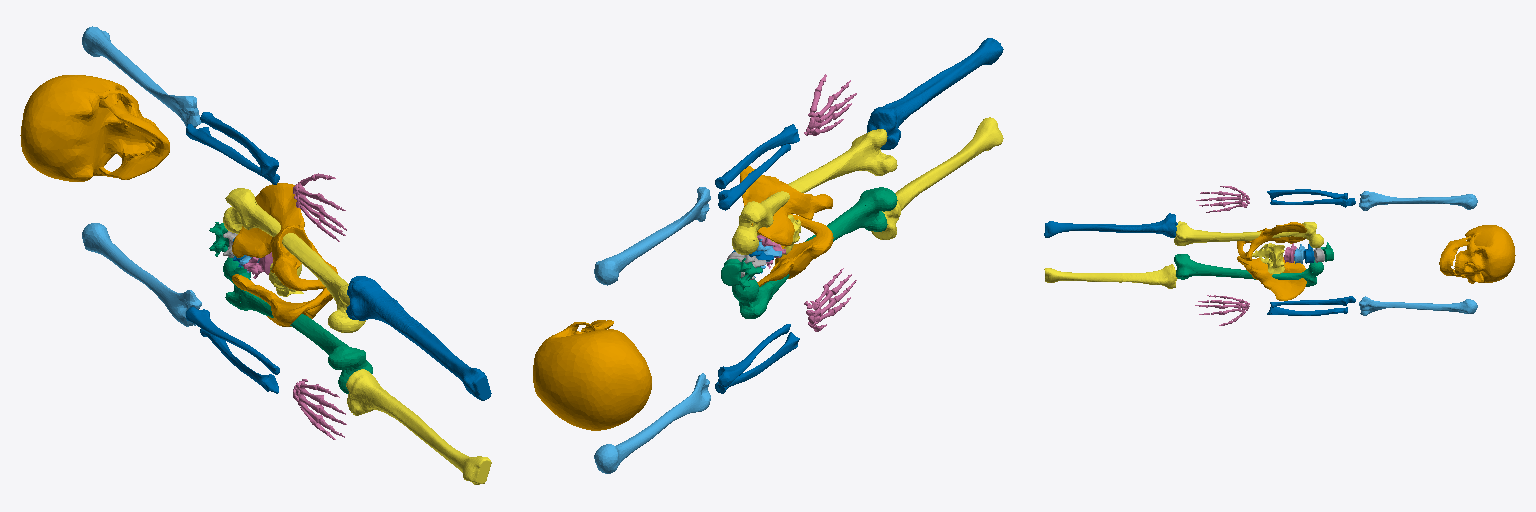
--- Facts derived from the render (not from the file) ---
3 views of the same robot in one strip: view 1: azimuth 30°, elevation 25°; view 2: azimuth 150°, elevation 25°; view 3: azimuth 270°, elevation 25° (orthographic).
Robot: Human_model — 55 links, 54 joints (52 revolute, 2 fixed); root link Pelvis; default pose: all joints at 0.
Links seen in each view (by area): view 1: Skull, Pelvis, RShank, RThigh, LShank, LThigh, LHumerus, RHumerus, RForearm, LForearm, LHand, RHand; view 2: Skull, Pelvis, RThigh, RShank, LThigh, LShank, LHumerus, RHumerus, RForearm, LForearm, RHand, LHand (+1 smaller); view 3: Skull, Pelvis, LThigh, LShank, RThigh, RShank, RHumerus, LHumerus, LForearm, RForearm, Sacrum, RHand (+1 smaller).
Link boxes in pixels (x1,y1,x2,y2): Skull: [20, 75, 169, 181]; Pelvis: [232, 183, 337, 326]; RShank: [346, 276, 491, 400]; RThigh: [223, 188, 365, 332]; LShank: [346, 369, 491, 484]; LThigh: [223, 256, 372, 393]; LHumerus: [82, 223, 201, 326]; RHumerus: [82, 26, 201, 127]; RForearm: [186, 112, 279, 184]; LForearm: [186, 307, 279, 393]; LHand: [293, 379, 346, 439]; RHand: [293, 173, 346, 241]; Skull: [533, 320, 651, 430]; Pelvis: [740, 166, 833, 286]; RThigh: [732, 129, 897, 254]; RShank: [867, 38, 1003, 149]; LThigh: [732, 187, 897, 318]; LShank: [871, 117, 1003, 239]; LHumerus: [594, 373, 710, 473]; RHumerus: [594, 187, 710, 285]; RForearm: [715, 124, 799, 210]; LForearm: [715, 324, 799, 393]; RHand: [804, 74, 856, 135]; LHand: [804, 268, 856, 331]; Skull: [1439, 225, 1515, 283]; Pelvis: [1237, 222, 1306, 300]; LThigh: [1174, 254, 1323, 286]; LShank: [1044, 264, 1177, 288]; RThigh: [1174, 221, 1323, 247]; RShank: [1044, 213, 1177, 237]; RHumerus: [1359, 191, 1477, 210]; LHumerus: [1359, 296, 1477, 315]; LForearm: [1267, 296, 1355, 315]; RForearm: [1267, 189, 1355, 207]; Sacrum: [1252, 243, 1284, 273]; RHand: [1196, 186, 1249, 212].
Size in the robot's own frame: 0.2164 by 1.47 by 0.4832 metres.
Meshes: 21 distinct files referenced, 18 mesh visuals loaded (18 ASCII STL); not drawn: 3 (reference not matched to a file when rendering).

The robot description file, URDF, robot "Human_model":
<?xml version="1.0" encoding="utf-8"?>
<robot name="Human_model">
   <link name="Pelvis">
      <inertial>
         <origin rpy="0 0 0" xyz="0 0 0"/>
         <mass value="8.4552"/>
         <inertia ixx="0" ixy="0" ixz="0" iyy="0" iyz="0" izz="0"/>
      </inertial>
      <visual>
         <origin>
            <xyz xyz="0 0 0"/>
            <rpy rpy="0 0 0"/>
         </origin>
         <geometry>
            <mesh filename="package://room_description/meshes/Pelvis.stl"/>
         </geometry>
      </visual>
   </link>
   <link name="PelvisSacrum_J1">
      <inertial>
         <origin rpy="0 0 0" xyz="0 0 0"/>
         <mass value="0"/>
         <inertia ixx="0" ixy="0" ixz="0" iyy="0" iyz="0" izz="0"/>
      </inertial>
   </link>
   <link name="PelvisSacrum_J2">
      <inertial>
         <origin rpy="0 0 0" xyz="0 0 0"/>
         <mass value="0"/>
         <inertia ixx="0" ixy="0" ixz="0" iyy="0" iyz="0" izz="0"/>
      </inertial>
   </link>
   <link name="Sacrum">
      <inertial>
         <origin rpy="0 0 0" xyz="-0.0255 0.028333 0"/>
         <mass value="0"/>
         <inertia ixx="0" ixy="0" ixz="0" iyy="0" iyz="0" izz="0"/>
      </inertial>
      <visual>
         <origin>
            <xyz xyz="-0.0255 0.028333 0"/>
            <rpy rpy="0 0 0"/>
         </origin>
         <geometry>
            <mesh filename="package://room_description/meshes/Sacrum.stl"/>
         </geometry>
      </visual>
   </link>
   <link name="SacrumL5_J1">
      <inertial>
         <origin rpy="0 0 0" xyz="0 0 0"/>
         <mass value="0"/>
         <inertia ixx="0" ixy="0" ixz="0" iyy="0" iyz="0" izz="0"/>
      </inertial>
   </link>
   <link name="SacrumL5_J2">
      <inertial>
         <origin rpy="0 0 0" xyz="0 0 0"/>
         <mass value="0"/>
         <inertia ixx="0" ixy="0" ixz="0" iyy="0" iyz="0" izz="0"/>
      </inertial>
   </link>
   <link name="L5">
      <inertial>
         <origin rpy="0 0 0" xyz="0.0075556 0.013222 0"/>
         <mass value="0"/>
         <inertia ixx="0" ixy="0" ixz="0" iyy="0" iyz="0" izz="0"/>
      </inertial>
      <visual>
         <origin>
            <xyz xyz="0.0075556 0.013222 0"/>
            <rpy rpy="0 0 0"/>
         </origin>
         <geometry>
            <mesh filename="package://room_description/meshes/L5.stl"/>
         </geometry>
      </visual>
   </link>
   <link name="L5L4_J1">
      <inertial>
         <origin rpy="0 0 0" xyz="0 0 0"/>
         <mass value="0"/>
         <inertia ixx="0" ixy="0" ixz="0" iyy="0" iyz="0" izz="0"/>
      </inertial>
   </link>
   <link name="L5L4_J2">
      <inertial>
         <origin rpy="0 0 0" xyz="0 0 0"/>
         <mass value="0"/>
         <inertia ixx="0" ixy="0" ixz="0" iyy="0" iyz="0" izz="0"/>
      </inertial>
   </link>
   <link name="L4">
      <inertial>
         <origin rpy="0 0 0" xyz="0.0056667 0.016056 0"/>
         <mass value="0"/>
         <inertia ixx="0" ixy="0" ixz="0" iyy="0" iyz="0" izz="0"/>
      </inertial>
      <visual>
         <origin>
            <xyz xyz="0.0056667 0.016056 0"/>
            <rpy rpy="0 0 0"/>
         </origin>
         <geometry>
            <mesh filename="package://room_description/meshes/L4.stl"/>
         </geometry>
      </visual>
   </link>
   <link name="L4L3_J1">
      <inertial>
         <origin rpy="0 0 0" xyz="0 0 0"/>
         <mass value="0"/>
         <inertia ixx="0" ixy="0" ixz="0" iyy="0" iyz="0" izz="0"/>
      </inertial>
   </link>
   <link name="L4L3_J2">
      <inertial>
         <origin rpy="0 0 0" xyz="0 0 0"/>
         <mass value="0"/>
         <inertia ixx="0" ixy="0" ixz="0" iyy="0" iyz="0" izz="0"/>
      </inertial>
   </link>
   <link name="L3">
      <inertial>
         <origin rpy="0 0 0" xyz="0.00094444 0.017 0"/>
         <mass value="0"/>
         <inertia ixx="0" ixy="0" ixz="0" iyy="0" iyz="0" izz="0"/>
      </inertial>
      <visual>
         <origin>
            <xyz xyz="0.00094444 0.017 0"/>
            <rpy rpy="0 0 0"/>
         </origin>
         <geometry>
            <mesh filename="package://room_description/meshes/L3.stl"/>
         </geometry>
      </visual>
   </link>
   <link name="L3L2_J1">
      <inertial>
         <origin rpy="0 0 0" xyz="0 0 0"/>
         <mass value="0"/>
         <inertia ixx="0" ixy="0" ixz="0" iyy="0" iyz="0" izz="0"/>
      </inertial>
   </link>
   <link name="L3L2_J2">
      <inertial>
         <origin rpy="0 0 0" xyz="0 0 0"/>
         <mass value="0"/>
         <inertia ixx="0" ixy="0" ixz="0" iyy="0" iyz="0" izz="0"/>
      </inertial>
   </link>
   <link name="L2">
      <inertial>
         <origin rpy="0 0 0" xyz="-0.00094444 0.015111 0"/>
         <mass value="0"/>
         <inertia ixx="0" ixy="0" ixz="0" iyy="0" iyz="0" izz="0"/>
      </inertial>
      <visual>
         <origin>
            <xyz xyz="-0.00094444 0.015111 0"/>
            <rpy rpy="0 0 0"/>
         </origin>
         <geometry>
            <mesh filename="package://room_description/meshes/L2.stl"/>
         </geometry>
      </visual>
   </link>
   <link name="L2L1_J1">
      <inertial>
         <origin rpy="0 0 0" xyz="0 0 0"/>
         <mass value="0"/>
         <inertia ixx="0" ixy="0" ixz="0" iyy="0" iyz="0" izz="0"/>
      </inertial>
   </link>
   <link name="L2L1_J2">
      <inertial>
         <origin rpy="0 0 0" xyz="0 0 0"/>
         <mass value="0"/>
         <inertia ixx="0" ixy="0" ixz="0" iyy="0" iyz="0" izz="0"/>
      </inertial>
   </link>
   <link name="L1">
      <inertial>
         <origin rpy="0 0 0" xyz="-0.0028333 0.015111 0"/>
         <mass value="0"/>
         <inertia ixx="0" ixy="0" ixz="0" iyy="0" iyz="0" izz="0"/>
      </inertial>
      <visual>
         <origin>
            <xyz xyz="-0.0028333 0.015111 0"/>
            <rpy rpy="0 0 0"/>
         </origin>
         <geometry>
            <mesh filename="package://room_description/meshes/L1.stl"/>
         </geometry>
      </visual>
   </link>
   <link name="L1Thorax_J1">
      <inertial>
         <origin rpy="0 0 0" xyz="0 0 0"/>
         <mass value="0"/>
         <inertia ixx="0" ixy="0" ixz="0" iyy="0" iyz="0" izz="0"/>
      </inertial>
   </link>
   <link name="L1Thorax_J2">
      <inertial>
         <origin rpy="0 0 0" xyz="0 0 0"/>
         <mass value="0"/>
         <inertia ixx="0" ixy="0" ixz="0" iyy="0" iyz="0" izz="0"/>
      </inertial>
   </link>
   <link name="Thorax">
      <inertial>
         <origin rpy="0 0 0" xyz="0.035889 0.14072 0"/>
         <mass value="19.8372"/>
         <inertia ixx="-0.16485" ixy="0.25777" ixz="0.0015499" iyy="0.20309" iyz="-0.0061998" izz="-0.18263"/>
      </inertial>
      <visual>
         <origin>
            <xyz xyz="0.035889 0.14072 0"/>
            <rpy rpy="0 0 0"/>
         </origin>
         <geometry>
            <mesh filename="package://room_description/meshes/Thorax.stl"/>
         </geometry>
      </visual>
   </link>
   <link name="ThoraxSkull_J1">
      <inertial>
         <origin rpy="0 0 0" xyz="0 0 0"/>
         <mass value="0"/>
         <inertia ixx="0" ixy="0" ixz="0" iyy="0" iyz="0" izz="0"/>
      </inertial>
   </link>
   <link name="ThoraxSkull_J2">
      <inertial>
         <origin rpy="0 0 0" xyz="0 0 0"/>
         <mass value="0"/>
         <inertia ixx="0" ixy="0" ixz="0" iyy="0" iyz="0" izz="0"/>
      </inertial>
   </link>
   <link name="Skull">
      <inertial>
         <origin rpy="0 0 0" xyz="0 0 0"/>
         <mass value="4.2276"/>
         <inertia ixx="0.0071027" ixy="-0.00059867" ixz="-2.9564e-05" iyy="0.0046194" iyz="6.6519e-05" izz="0.0080488"/>
      </inertial>
      <visual>
         <origin>
            <xyz xyz="0 0 0"/>
            <rpy rpy="0 0 0"/>
         </origin>
         <geometry>
            <mesh filename="package://room_description/meshes/Skull.stl"/>
         </geometry>
      </visual>
   </link>
   <link name="RHip_J1">
      <inertial>
         <origin rpy="0 0 0" xyz="0 0 0"/>
         <mass value="0"/>
         <inertia ixx="0" ixy="0" ixz="0" iyy="0" iyz="0" izz="0"/>
      </inertial>
   </link>
   <link name="RHip_J2">
      <inertial>
         <origin rpy="0 0 0" xyz="0 0 0"/>
         <mass value="0"/>
         <inertia ixx="0" ixy="0" ixz="0" iyy="0" iyz="0" izz="0"/>
      </inertial>
   </link>
   <link name="RThigh">
      <inertial>
         <origin rpy="0 0 0" xyz="0 -0.18606 0.035889"/>
         <mass value="7.3797"/>
         <inertia ixx="0.11501" ixy="0.0067008" ixz="-0.000547" iyy="0.030769" iyz="-0.0067008" izz="0.12308"/>
      </inertial>
      <visual>
         <origin>
            <xyz xyz="0 -0.18606 0.035889"/>
            <rpy rpy="0 0 0"/>
         </origin>
         <geometry>
            <mesh filename="package://room_description/meshes/RThigh.stl"/>
         </geometry>
      </visual>
   </link>
   <link name="RShank">
      <inertial>
         <origin rpy="0 0 0" xyz="0 -0.18813 0"/>
         <mass value="2.8801"/>
         <inertia ixx="0.042617" ixy="-0.00086974" ixz="-0.00021743" iyy="0.0054359" iyz="0.001359" izz="0.042617"/>
      </inertial>
      <visual>
         <origin>
            <xyz xyz="0 -0.18813 0"/>
            <rpy rpy="0 0 0"/>
         </origin>
         <geometry>
            <mesh filename="package://room_description/meshes/RShank.stl"/>
         </geometry>
      </visual>
   </link>
   <link name="RAnkle_J1">
      <inertial>
         <origin rpy="0 0 0" xyz="0 0 0"/>
         <mass value="0"/>
         <inertia ixx="0" ixy="0" ixz="0" iyy="0" iyz="0" izz="0"/>
      </inertial>
   </link>
   <link name="RFootInter">
      <inertial>
         <origin rpy="0 0 0" xyz="0 0 0"/>
         <mass value="0"/>
         <inertia ixx="0" ixy="0" ixz="0" iyy="0" iyz="0" izz="0"/>
      </inertial>
   </link>
   <link name="RFoot">
      <inertial>
         <origin rpy="0 0 0" xyz="-0.025972 -0.065875 0.018889"/>
         <mass value="0.72029"/>
         <inertia ixx="0.0035454" ixy="0.00043767" ixz="0" iyy="0.00074844" iyz="-0.00016575" izz="0.0033563"/>
      </inertial>
      <visual>
         <origin>
            <xyz xyz="-0.025972 -0.065875 0.018889"/>
            <rpy rpy="0 0 0"/>
         </origin>
         <geometry>
            <mesh filename="package://room_description/meshes/RFoot.stl"/>
         </geometry>
      </visual>
   </link>
   <link name="LHip_J1">
      <inertial>
         <origin rpy="0 0 0" xyz="0 0 0"/>
         <mass value="0"/>
         <inertia ixx="0" ixy="0" ixz="0" iyy="0" iyz="0" izz="0"/>
      </inertial>
   </link>
   <link name="LHip_J2">
      <inertial>
         <origin rpy="0 0 0" xyz="0 0 0"/>
         <mass value="0"/>
         <inertia ixx="0" ixy="0" ixz="0" iyy="0" iyz="0" izz="0"/>
      </inertial>
   </link>
   <link name="LThigh">
      <inertial>
         <origin rpy="0 0 0" xyz="0 -0.18606 -0.035889"/>
         <mass value="7.3797"/>
         <inertia ixx="0.11501" ixy="0.0067008" ixz="-0.000547" iyy="0.030769" iyz="-0.0067008" izz="0.12308"/>
      </inertial>
      <visual>
         <origin>
            <xyz xyz="0 -0.18606 -0.035889"/>
            <rpy rpy="0 0 0"/>
         </origin>
         <geometry>
            <mesh filename="package://room_description/meshes/LThigh.stl"/>
         </geometry>
      </visual>
   </link>
   <link name="LShank">
      <inertial>
         <origin rpy="0 0 0" xyz="0 -0.18813 0"/>
         <mass value="2.8801"/>
         <inertia ixx="0.042617" ixy="-0.00086974" ixz="-0.00021743" iyy="0.0054359" iyz="0.001359" izz="0.042617"/>
      </inertial>
      <visual>
         <origin>
            <xyz xyz="0 -0.18813 0"/>
            <rpy rpy="0 0 0"/>
         </origin>
         <geometry>
            <mesh filename="package://room_description/meshes/LShank.stl"/>
         </geometry>
      </visual>
   </link>
   <link name="LAnkle_J1">
      <inertial>
         <origin rpy="0 0 0" xyz="0 0 0"/>
         <mass value="0"/>
         <inertia ixx="0" ixy="0" ixz="0" iyy="0" iyz="0" izz="0"/>
      </inertial>
   </link>
   <link name="LFootInter">
      <inertial>
         <origin rpy="0 0 0" xyz="0 0 0"/>
         <mass value="0"/>
         <inertia ixx="0" ixy="0" ixz="0" iyy="0" iyz="0" izz="0"/>
      </inertial>
   </link>
   <link name="LFoot">
      <inertial>
         <origin rpy="0 0 0" xyz="-0.025972 -0.065875 -0.018889"/>
         <mass value="0.72029"/>
         <inertia ixx="0.0035454" ixy="0.00043767" ixz="0" iyy="0.00074844" iyz="-0.00016575" izz="0.0033563"/>
      </inertial>
      <visual>
         <origin>
            <xyz xyz="-0.025972 -0.065875 -0.018889"/>
            <rpy rpy="0 0 0"/>
         </origin>
         <geometry>
            <mesh filename="package://room_description/meshes/LFoot.stl"/>
         </geometry>
      </visual>
   </link>
   <link name="RShoulder_J1">
      <inertial>
         <origin rpy="0 0 0" xyz="0 0 0"/>
         <mass value="0"/>
         <inertia ixx="0" ixy="0" ixz="0" iyy="0" iyz="0" izz="0"/>
      </inertial>
   </link>
   <link name="RShoulder_J2">
      <inertial>
         <origin rpy="0 0 0" xyz="0 0 0"/>
         <mass value="0"/>
         <inertia ixx="0" ixy="0" ixz="0" iyy="0" iyz="0" izz="0"/>
      </inertial>
   </link>
   <link name="RHumerus">
      <inertial>
         <origin rpy="0 0 0" xyz="0 -0.1581 0"/>
         <mass value="1.4399"/>
         <inertia ixx="-0.022156" ixy="0.00051827" ixz="0.00035991" iyy="0.0028217" iyz="5.7586e-05" izz="-0.021249"/>
      </inertial>
      <visual>
         <origin>
            <xyz xyz="0 -0.1581 0"/>
            <rpy rpy="0 0 0"/>
         </origin>
         <geometry>
            <mesh filename="package://room_description/meshes/RHumerus.stl"/>
         </geometry>
      </visual>
   </link>
   <link name="RElbow_J1">
      <inertial>
         <origin rpy="0 0 0" xyz="0 0 0"/>
         <mass value="0"/>
         <inertia ixx="0" ixy="0" ixz="0" iyy="0" iyz="0" izz="0"/>
      </inertial>
   </link>
   <link name="RForearm_Virtual">
      <inertial>
         <origin rpy="0 0 0" xyz="0 -0.11352 0"/>
         <mass value="0"/>
         <inertia ixx="0" ixy="0" ixz="0" iyy="0" iyz="0" izz="0"/>
      </inertial>
   </link>
   <link name="RForearm">
      <inertial>
         <origin rpy="0 0 0" xyz="0 -0.11352 0"/>
         <mass value="1.02"/>
         <inertia ixx="-0.0082187" ixy="5.6551e-05" ixz="2.5134e-05" iyy="0.0007603" iyz="-0.00040214" izz="-0.0085643"/>
      </inertial>
      <visual>
         <origin>
            <xyz xyz="0 -0.11352 0"/>
            <rpy rpy="0 0 0"/>
         </origin>
         <geometry>
            <mesh filename="package://room_description/meshes/RForearm.stl"/>
         </geometry>
      </visual>
   </link>
   <link name="RWrist_J1">
      <inertial>
         <origin rpy="0 0 0" xyz="0 0 0"/>
         <mass value="0"/>
         <inertia ixx="0" ixy="0" ixz="0" iyy="0" iyz="0" izz="0"/>
      </inertial>
   </link>
   <link name="RHand">
      <inertial>
         <origin rpy="0 0 0" xyz="0 -0.049867 0"/>
         <mass value="0.36011"/>
         <inertia ixx="0.0036215" ixy="0.00058753" ixz="0.00027313" iyy="0.0017529" iyz="-0.00048556" izz="0.0029113"/>
      </inertial>
      <visual>
         <origin>
            <xyz xyz="0 -0.049867 0"/>
            <rpy rpy="0 0 0"/>
         </origin>
         <geometry>
            <mesh filename="package://room_description/meshes/RHand.stl"/>
         </geometry>
      </visual>
   </link>
   <link name="LShoulder_J1">
      <inertial>
         <origin rpy="0 0 0" xyz="0 0 0"/>
         <mass value="0"/>
         <inertia ixx="0" ixy="0" ixz="0" iyy="0" iyz="0" izz="0"/>
      </inertial>
   </link>
   <link name="LShoulder_J2">
      <inertial>
         <origin rpy="0 0 0" xyz="0 0 0"/>
         <mass value="0"/>
         <inertia ixx="0" ixy="0" ixz="0" iyy="0" iyz="0" izz="0"/>
      </inertial>
   </link>
   <link name="LHumerus">
      <inertial>
         <origin rpy="0 0 0" xyz="0 -0.1581 0"/>
         <mass value="1.4399"/>
         <inertia ixx="-0.022156" ixy="0.00051827" ixz="0.00035991" iyy="0.0028217" iyz="5.7586e-05" izz="-0.021249"/>
      </inertial>
      <visual>
         <origin>
            <xyz xyz="0 -0.1581 0"/>
            <rpy rpy="0 0 0"/>
         </origin>
         <geometry>
            <mesh filename="package://room_description/meshes/LHumerus.stl"/>
         </geometry>
      </visual>
   </link>
   <link name="LElbow_J1">
      <inertial>
         <origin rpy="0 0 0" xyz="0 0 0"/>
         <mass value="0"/>
         <inertia ixx="0" ixy="0" ixz="0" iyy="0" iyz="0" izz="0"/>
      </inertial>
   </link>
   <link name="LForearm_Virtual">
      <inertial>
         <origin rpy="0 0 0" xyz="0 -0.11352 0"/>
         <mass value="0"/>
         <inertia ixx="0" ixy="0" ixz="0" iyy="0" iyz="0" izz="0"/>
      </inertial>
   </link>
   <link name="LForearm">
      <inertial>
         <origin rpy="0 0 0" xyz="0 -0.11352 0"/>
         <mass value="1.02"/>
         <inertia ixx="-0.0082187" ixy="5.6551e-05" ixz="2.5134e-05" iyy="0.0007603" iyz="-0.00040214" izz="-0.0085643"/>
      </inertial>
      <visual>
         <origin>
            <xyz xyz="0 -0.11352 0"/>
            <rpy rpy="0 0 0"/>
         </origin>
         <geometry>
            <mesh filename="package://room_description/meshes/LForearm.stl"/>
         </geometry>
      </visual>
   </link>
   <link name="LWrist_J1">
      <inertial>
         <origin rpy="0 0 0" xyz="0 0 0"/>
         <mass value="0"/>
         <inertia ixx="0" ixy="0" ixz="0" iyy="0" iyz="0" izz="0"/>
      </inertial>
   </link>
   <link name="LHand">
      <inertial>
         <origin rpy="0 0 0" xyz="0 -0.049867 0"/>
         <mass value="0.36011"/>
         <inertia ixx="0.0036215" ixy="0.00058753" ixz="0.00027313" iyy="0.0017529" iyz="-0.00048556" izz="0.0029113"/>
      </inertial>
      <visual>
         <origin>
            <xyz xyz="0 -0.049867 0"/>
            <rpy rpy="0 0 0"/>
         </origin>
         <geometry>
            <mesh filename="package://room_description/meshes/LHand.stl"/>
         </geometry>
      </visual>
   </link>
   <joint name="PelvisSacrum_J1j" type="revolute">
      <limit effort="10" lower="-10" upper="10" velocity="10"/>
      <parent link="Pelvis"/>
      <child link="PelvisSacrum_J1"/>
      <origin rpy="0 0 0" xyz="-0.010389 0.018889 0"/>
      <axis xyz="1 0 0"/>
   </joint>
   <joint name="PelvisSacrum_J2j" type="revolute">
      <limit effort="10" lower="-10" upper="10" velocity="10"/>
      <parent link="PelvisSacrum_J1"/>
      <child link="PelvisSacrum_J2"/>
      <origin rpy="0 0 0" xyz="0 0 0"/>
      <axis xyz="0 1 0"/>
   </joint>
   <joint name="Sacrumj" type="revolute">
      <limit effort="10" lower="-10" upper="10" velocity="10"/>
      <parent link="PelvisSacrum_J2"/>
      <child link="Sacrum"/>
      <origin rpy="0 0 0" xyz="0 0 0"/>
      <axis xyz="0 0 1"/>
   </joint>
   <joint name="SacrumL5_J1j" type="revolute">
      <limit effort="10" lower="-10" upper="10" velocity="10"/>
      <parent link="Sacrum"/>
      <child link="SacrumL5_J1"/>
      <origin rpy="0 0 0" xyz="0.015111 0.023611 0"/>
      <axis xyz="1 0 0"/>
   </joint>
   <joint name="SacrumL5_J2j" type="revolute">
      <limit effort="10" lower="-10" upper="10" velocity="10"/>
      <parent link="SacrumL5_J1"/>
      <child link="SacrumL5_J2"/>
      <origin rpy="0 0 0" xyz="0 0 0"/>
      <axis xyz="0 1 0"/>
   </joint>
   <joint name="L5j" type="revolute">
      <limit effort="10" lower="-10" upper="10" velocity="10"/>
      <parent link="SacrumL5_J2"/>
      <child link="L5"/>
      <origin rpy="0 0 0" xyz="0 0 0"/>
      <axis xyz="0 0 1"/>
   </joint>
   <joint name="L5L4_J1j" type="revolute">
      <limit effort="10" lower="-10" upper="10" velocity="10"/>
      <parent link="L5"/>
      <child link="L5L4_J1"/>
      <origin rpy="0 0 0" xyz="0.0066111 0.030222 0"/>
      <axis xyz="1 0 0"/>
   </joint>
   <joint name="L5L4_J2j" type="revolute">
      <limit effort="10" lower="-10" upper="10" velocity="10"/>
      <parent link="L5L4_J1"/>
      <child link="L5L4_J2"/>
      <origin rpy="0 0 0" xyz="0 0 0"/>
      <axis xyz="0 1 0"/>
   </joint>
   <joint name="L4j" type="revolute">
      <limit effort="10" lower="-10" upper="10" velocity="10"/>
      <parent link="L5L4_J2"/>
      <child link="L4"/>
      <origin rpy="0 0 0" xyz="0 0 0"/>
      <axis xyz="0 0 1"/>
   </joint>
   <joint name="L4L3_J1j" type="revolute">
      <limit effort="10" lower="-10" upper="10" velocity="10"/>
      <parent link="L4"/>
      <child link="L4L3_J1"/>
      <origin rpy="0 0 0" xyz="0 0.032111 0"/>
      <axis xyz="1 0 0"/>
   </joint>
   <joint name="L4L3_J2j" type="revolute">
      <limit effort="10" lower="-10" upper="10" velocity="10"/>
      <parent link="L4L3_J1"/>
      <child link="L4L3_J2"/>
      <origin rpy="0 0 0" xyz="0 0 0"/>
      <axis xyz="0 1 0"/>
   </joint>
   <joint name="L3j" type="revolute">
      <limit effort="10" lower="-10" upper="10" velocity="10"/>
      <parent link="L4L3_J2"/>
      <child link="L3"/>
      <origin rpy="0 0 0" xyz="0 0 0"/>
      <axis xyz="0 0 1"/>
   </joint>
   <joint name="L3L2_J1j" type="revolute">
      <limit effort="10" lower="-10" upper="10" velocity="10"/>
      <parent link="L3"/>
      <child link="L3L2_J1"/>
      <origin rpy="0 0 0" xyz="-0.0056667 0.031167 0"/>
      <axis xyz="1 0 0"/>
   </joint>
   <joint name="L3L2_J2j" type="revolute">
      <limit effort="10" lower="-10" upper="10" velocity="10"/>
      <parent link="L3L2_J1"/>
      <child link="L3L2_J2"/>
      <origin rpy="0 0 0" xyz="0 0 0"/>
      <axis xyz="0 1 0"/>
   </joint>
   <joint name="L2j" type="revolute">
      <limit effort="10" lower="-10" upper="10" velocity="10"/>
      <parent link="L3L2_J2"/>
      <child link="L2"/>
      <origin rpy="0 0 0" xyz="0 0 0"/>
      <axis xyz="0 0 1"/>
   </joint>
   <joint name="L2L1_J1j" type="revolute">
      <limit effort="10" lower="-10" upper="10" velocity="10"/>
      <parent link="L2"/>
      <child link="L2L1_J1"/>
      <origin rpy="0 0 0" xyz="-0.0094444 0.027389 0"/>
      <axis xyz="1 0 0"/>
   </joint>
   <joint name="L2L1_J2j" type="revolute">
      <limit effort="10" lower="-10" upper="10" velocity="10"/>
      <parent link="L2L1_J1"/>
      <child link="L2L1_J2"/>
      <origin rpy="0 0 0" xyz="0 0 0"/>
      <axis xyz="0 1 0"/>
   </joint>
   <joint name="L1j" type="revolute">
      <limit effort="10" lower="-10" upper="10" velocity="10"/>
      <parent link="L2L1_J2"/>
      <child link="L1"/>
      <origin rpy="0 0 0" xyz="0 0 0"/>
      <axis xyz="0 0 1"/>
   </joint>
   <joint name="L1Thorax_J1j" type="revolute">
      <limit effort="10" lower="-10" upper="10" velocity="10"/>
      <parent link="L1"/>
      <child link="L1Thorax_J1"/>
      <origin rpy="0 0 0" xyz="-0.011333 0.029278 0"/>
      <axis xyz="1 0 0"/>
   </joint>
   <joint name="L1Thorax_J2j" type="revolute">
      <limit effort="10" lower="-10" upper="10" velocity="10"/>
      <parent link="L1Thorax_J1"/>
      <child link="L1Thorax_J2"/>
      <origin rpy="0 0 0" xyz="0 0 0"/>
      <axis xyz="0 1 0"/>
   </joint>
   <joint name="Thoraxj" type="revolute">
      <limit effort="10" lower="-10" upper="10" velocity="10"/>
      <parent link="L1Thorax_J2"/>
      <child link="Thorax"/>
      <origin rpy="0 0 0" xyz="0 0 0"/>
      <axis xyz="0 0 1"/>
   </joint>
   <joint name="ThoraxSkull_J1j" type="revolute">
      <limit effort="10" lower="-10" upper="10" velocity="10"/>
      <parent link="Thorax"/>
      <child link="ThoraxSkull_J1"/>
      <origin rpy="0 0 0" xyz="0.0037778 0.42122 0"/>
      <axis xyz="1 0 0"/>
   </joint>
   <joint name="ThoraxSkull_J2j" type="revolute">
      <limit effort="10" lower="-10" upper="10" velocity="10"/>
      <parent link="ThoraxSkull_J1"/>
      <child link="ThoraxSkull_J2"/>
      <origin rpy="0 0 0" xyz="0 0 0"/>
      <axis xyz="0 1 0"/>
   </joint>
   <joint name="Skullj" type="revolute">
      <limit effort="10" lower="-10" upper="10" velocity="10"/>
      <parent link="ThoraxSkull_J2"/>
      <child link="Skull"/>
      <origin rpy="0 0 0" xyz="0 0 0"/>
      <axis xyz="0 0 1"/>
   </joint>
   <joint name="RHip_J1j" type="revolute">
      <limit effort="10" lower="-10" upper="10" velocity="10"/>
      <parent link="Pelvis"/>
      <child link="RHip_J1"/>
      <origin rpy="0 0 0" xyz="-0.0075556 -0.047222 0.075556"/>
      <axis xyz="1 0 0"/>
   </joint>
   <joint name="RHip_J2j" type="revolute">
      <limit effort="10" lower="-10" upper="10" velocity="10"/>
      <parent link="RHip_J1"/>
      <child link="RHip_J2"/>
      <origin rpy="0 0 0" xyz="0 0 0"/>
      <axis xyz="0 1 0"/>
   </joint>
   <joint name="RThighj" type="revolute">
      <limit effort="10" lower="-10" upper="10" velocity="10"/>
      <parent link="RHip_J2"/>
      <child link="RThigh"/>
      <origin rpy="0 0 0" xyz="0 0 0"/>
      <axis xyz="0 0 1"/>
   </joint>
   <joint name="RShankj" type="revolute">
      <limit effort="10" lower="-10" upper="10" velocity="10"/>
      <parent link="RThigh"/>
      <child link="RShank"/>
      <origin rpy="0 0 0" xyz="-0.023611 -0.42972 0.0094444"/>
      <axis xyz="0 0 1"/>
   </joint>
   <joint name="RAnkle_J1j" type="revolute">
      <limit effort="10" lower="-10" upper="10" velocity="10"/>
      <parent link="RShank"/>
      <child link="RAnkle_J1"/>
      <origin rpy="0 0 0" xyz="0 -0.43444 0"/>
      <axis xyz="0 0 1"/>
   </joint>
   <joint name="RFootj" type="revolute">
      <limit effort="10" lower="-10" upper="10" velocity="10"/>
      <parent link="RAnkle_J1"/>
      <child link="RFoot"/>
      <origin rpy="0 0 0" xyz="0 0 0"/>
      <axis xyz="1 0 0"/>
   </joint>
   <joint name="RFootInterj" type="fixed">
      <parent link="RFoot"/>
      <child link="RFootInter"/>
      <origin rpy="0 0 0" xyz="0 0 0"/>
      <axis rpy="0 0 1.5708"/>
   </joint>
   <joint name="LHip_J1j" type="revolute">
      <limit effort="10" lower="-10" upper="10" velocity="10"/>
      <parent link="Pelvis"/>
      <child link="LHip_J1"/>
      <origin rpy="0 0 0" xyz="-0.0075556 -0.047222 -0.075556"/>
      <axis xyz="1 0 0"/>
   </joint>
   <joint name="LHip_J2j" type="revolute">
      <limit effort="10" lower="-10" upper="10" velocity="10"/>
      <parent link="LHip_J1"/>
      <child link="LHip_J2"/>
      <origin rpy="0 0 0" xyz="0 0 0"/>
      <axis xyz="0 1 0"/>
   </joint>
   <joint name="LThighj" type="revolute">
      <limit effort="10" lower="-10" upper="10" velocity="10"/>
      <parent link="LHip_J2"/>
      <child link="LThigh"/>
      <origin rpy="0 0 0" xyz="0 0 0"/>
      <axis xyz="0 0 1"/>
   </joint>
   <joint name="LShankj" type="revolute">
      <limit effort="10" lower="-10" upper="10" velocity="10"/>
      <parent link="LThigh"/>
      <child link="LShank"/>
      <origin rpy="0 0 0" xyz="-0.023611 -0.42972 -0.0094444"/>
      <axis xyz="0 0 1"/>
   </joint>
   <joint name="LAnkle_J1j" type="revolute">
      <limit effort="10" lower="-10" upper="10" velocity="10"/>
      <parent link="LShank"/>
      <child link="LAnkle_J1"/>
      <origin rpy="0 0 0" xyz="0 -0.43444 0"/>
      <axis xyz="0 0 1"/>
   </joint>
   <joint name="LFootj" type="revolute">
      <limit effort="10" lower="-10" upper="10" velocity="10"/>
      <parent link="LAnkle_J1"/>
      <child link="LFoot"/>
      <origin rpy="0 0 0" xyz="0 0 0"/>
      <axis xyz="1 0 0"/>
   </joint>
   <joint name="LFootInterj" type="fixed">
      <parent link="LFoot"/>
      <child link="LFootInter"/>
      <origin rpy="0 0 0" xyz="0 0 0"/>
      <axis rpy="0 0 1.5708"/>
   </joint>
   <joint name="RShoulder_J1j" type="revolute">
      <limit effort="10" lower="-10" upper="10" velocity="10"/>
      <parent link="Thorax"/>
      <child link="RShoulder_J1"/>
      <origin rpy="0 0 0" xyz="-0.0026444 0.24452 0.18218"/>
      <axis xyz="1 0 0"/>
   </joint>
   <joint name="RShoulder_J2j" type="revolute">
      <limit effort="10" lower="-10" upper="10" velocity="10"/>
      <parent link="RShoulder_J1"/>
      <child link="RShoulder_J2"/>
      <origin rpy="0 0 0" xyz="0 0 0"/>
      <axis xyz="0 1 0"/>
   </joint>
   <joint name="RHumerusj" type="revolute">
      <limit effort="10" lower="-10" upper="10" velocity="10"/>
      <parent link="RShoulder_J2"/>
      <child link="RHumerus"/>
      <origin rpy="0 0 0" xyz="0 0 0"/>
      <axis xyz="0 0 1"/>
   </joint>
   <joint name="RElbow_J1j" type="revolute">
      <limit effort="10" lower="-10" upper="10" velocity="10"/>
      <parent link="RHumerus"/>
      <child link="RElbow_J1"/>
      <origin rpy="0 0 0" xyz="0 -0.3162 0"/>
      <axis xyz="0 0 1"/>
   </joint>
   <joint name="RForearm_Virtualj" type="revolute">
      <limit effort="10" lower="-10" upper="10" velocity="10"/>
      <parent link="RHumerus"/>
      <child link="RForearm_Virtual"/>
      <origin rpy="0 0 0" xyz="0 -0.3162 0"/>
      <axis xyz="0 0 1"/>
   </joint>
   <joint name="RForearmj" type="revolute">
      <limit effort="10" lower="-10" upper="10" velocity="10"/>
      <parent link="RElbow_J1"/>
      <child link="RForearm"/>
      <origin rpy="0 0 0" xyz="0 0 0"/>
      <axis xyz="0 1 0"/>
   </joint>
   <joint name="RWrist_J1j" type="revolute">
      <limit effort="10" lower="-10" upper="10" velocity="10"/>
      <parent link="RForearm"/>
      <child link="RWrist_J1"/>
      <origin rpy="0 0 0" xyz="0 -0.2482 0"/>
      <axis xyz="0 0 1"/>
   </joint>
   <joint name="RHandj" type="revolute">
      <limit effort="10" lower="-10" upper="10" velocity="10"/>
      <parent link="RWrist_J1"/>
      <child link="RHand"/>
      <origin rpy="0 0 0" xyz="0 0 0"/>
      <axis xyz="1 0 0"/>
   </joint>
   <joint name="LShoulder_J1j" type="revolute">
      <limit effort="10" lower="-10" upper="10" velocity="10"/>
      <parent link="Thorax"/>
      <child link="LShoulder_J1"/>
      <origin rpy="0 0 0" xyz="-0.0026444 0.24452 -0.18218"/>
      <axis xyz="1 0 0"/>
   </joint>
   <joint name="LShoulder_J2j" type="revolute">
      <limit effort="10" lower="-10" upper="10" velocity="10"/>
      <parent link="LShoulder_J1"/>
      <child link="LShoulder_J2"/>
      <origin rpy="0 0 0" xyz="0 0 0"/>
      <axis xyz="0 1 0"/>
   </joint>
   <joint name="LHumerusj" type="revolute">
      <limit effort="10" lower="-10" upper="10" velocity="10"/>
      <parent link="LShoulder_J2"/>
      <child link="LHumerus"/>
      <origin rpy="0 0 0" xyz="0 0 0"/>
      <axis xyz="0 0 1"/>
   </joint>
   <joint name="LElbow_J1j" type="revolute">
      <limit effort="10" lower="-10" upper="10" velocity="10"/>
      <parent link="LHumerus"/>
      <child link="LElbow_J1"/>
      <origin rpy="0 0 0" xyz="0 -0.3162 0"/>
      <axis xyz="0 0 1"/>
   </joint>
   <joint name="LForearm_Virtualj" type="revolute">
      <limit effort="10" lower="-10" upper="10" velocity="10"/>
      <parent link="LHumerus"/>
      <child link="LForearm_Virtual"/>
      <origin rpy="0 0 0" xyz="0 -0.3162 0"/>
      <axis xyz="0 0 1"/>
   </joint>
   <joint name="LForearmj" type="revolute">
      <limit effort="10" lower="-10" upper="10" velocity="10"/>
      <parent link="LElbow_J1"/>
      <child link="LForearm"/>
      <origin rpy="0 0 0" xyz="0 0 0"/>
      <axis xyz="0 1 0"/>
   </joint>
   <joint name="LWrist_J1j" type="revolute">
      <limit effort="10" lower="-10" upper="10" velocity="10"/>
      <parent link="LForearm"/>
      <child link="LWrist_J1"/>
      <origin rpy="0 0 0" xyz="0 -0.2482 0"/>
      <axis xyz="0 0 1"/>
   </joint>
   <joint name="LHandj" type="revolute">
      <limit effort="10" lower="-10" upper="10" velocity="10"/>
      <parent link="LWrist_J1"/>
      <child link="LHand"/>
      <origin rpy="0 0 0" xyz="0 0 0"/>
      <axis xyz="1 0 0"/>
   </joint>
</robot>
